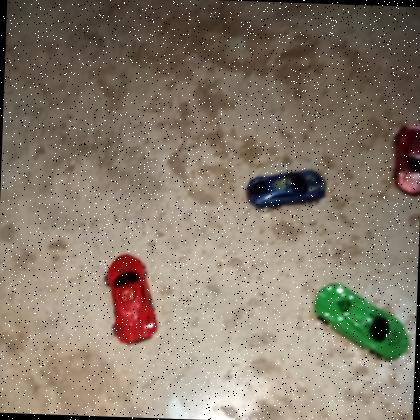Car: (311, 280, 412, 362), (103, 252, 162, 344), (245, 166, 330, 214)
